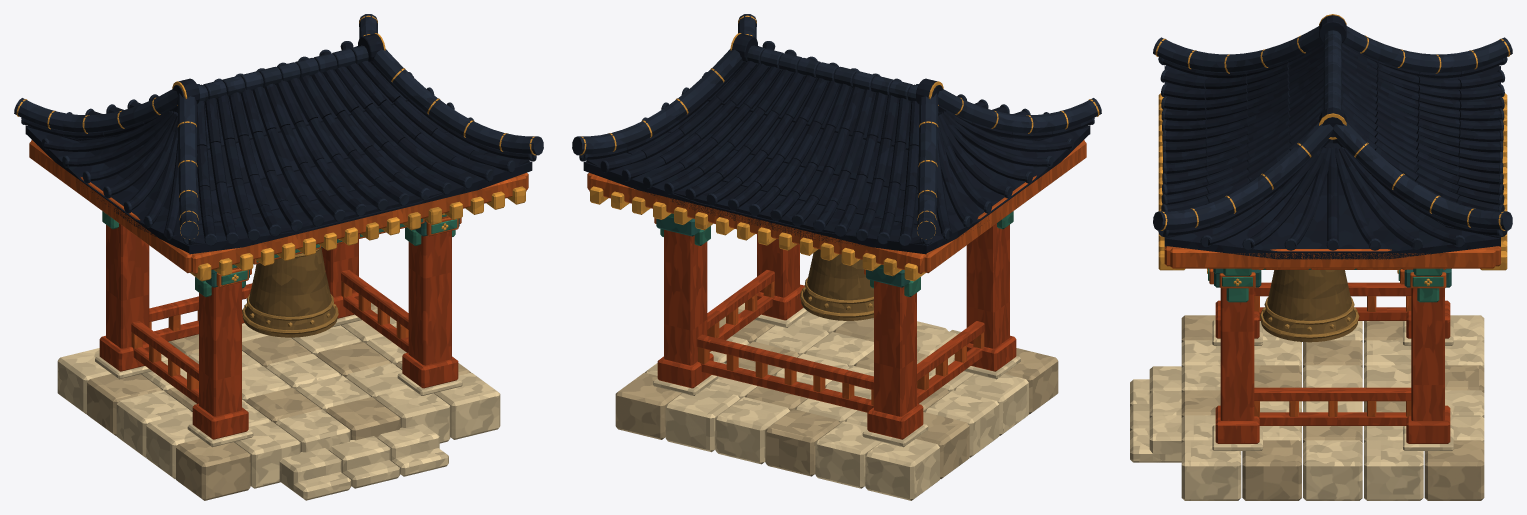
File: Test_Cheon_BellPavilion.fbx
The picture shows the model from 3 angles, left to right: view 1: azimuth 30°, elevation 25°; view 2: azimuth 150°, elevation 25°; view 3: azimuth 270°, elevation 25°; orthographic projection. The views are drawn at different scales.
Parts seen in each view (by area): view 1: Pavilion_Pillar_Post.002, Bell_Hollow_Body, Pavilion_Pillar_Post, Pavilion_Pillar_Post.001, PavilionRoof_HipSide_-1, PavilionRoof_EaveFascia, Pavilion_Stone_0_0, PavilionRoof_Front_HipRoll_1, PavilionRoof_Front_UnderRoof, PavilionRoof_Back_HipRoll_-1, Pavilion_Stone_5_0, PavilionRoof_SideFascia (+41 smaller); view 2: Pavilion_Pillar_Post.001, Pavilion_Pillar_Post.003, Pavilion_Pillar_Post, PavilionRoof_HipSide_-1, PavilionRoof_Back_UnderRoof, PavilionRoof_EaveFascia.001, Pavilion_Stone_0_4, PavilionRoof_Back_HipRoll_1, Bell_Hollow_Body, Pavilion_Stone_2_4, Pavilion_Stone_3_4, Pavilion_Stone_4_4 (+37 smaller); view 3: PavilionRoof_HipSide_1, PavilionRoof_SideFascia.001, Bell_Hollow_Body, Pavilion_Pillar_Post.002, Pavilion_Pillar_Post.003, PavilionRoof_Front_HipRoll_1, PavilionRoof_Back_HipRoll_1, Pavilion_Stone_5_2, Pavilion_Stone_5_1, Pavilion_Stone_5_3, Pavilion_Stone_5_0, Pavilion_Stone_5_4 (+73 smaller).
Boxes of the visible parts, x1,y1,x2,y2 form: Pavilion_Pillar_Post.002: (408,231,451,365); Bell_Hollow_Body: (243,248,337,337); Pavilion_Pillar_Post: (199,282,241,416); Pavilion_Pillar_Post.001: (106,223,149,348); PavilionRoof_HipSide_-1: (25,126,189,252); PavilionRoof_EaveFascia: (191,174,526,273); Pavilion_Stone_0_0: (176,439,250,500); PavilionRoof_Front_HipRoll_1: (366,49,543,155); PavilionRoof_Front_UnderRoof: (189,132,532,254); PavilionRoof_Back_HipRoll_-1: (14,89,177,133); Pavilion_Stone_5_0: (434,372,500,439); PavilionRoof_SideFascia: (29,140,192,273); Pavilion_Pillar_Post.001: (874,281,916,416); Pavilion_Pillar_Post.003: (664,229,707,365); Pavilion_Pillar_Post: (966,223,1009,348); PavilionRoof_HipSide_-1: (926,126,1090,252); PavilionRoof_Back_UnderRoof: (583,132,926,254); PavilionRoof_EaveFascia.001: (589,174,924,273); Pavilion_Stone_0_4: (865,439,939,500); PavilionRoof_Back_HipRoll_1: (572,49,749,155); Bell_Hollow_Body: (801,249,873,320); Pavilion_Stone_2_4: (765,409,840,476); Pavilion_Stone_3_4: (715,397,790,464); Pavilion_Stone_4_4: (665,387,740,452); PavilionRoof_HipSide_1: (1164,143,1500,259); PavilionRoof_SideFascia.001: (1170,247,1495,268); Bell_Hollow_Body: (1261,270,1357,342); Pavilion_Pillar_Post.002: (1220,288,1254,420); Pavilion_Pillar_Post.003: (1411,288,1444,420); PavilionRoof_Front_HipRoll_1: (1153,122,1332,230); PavilionRoof_Back_HipRoll_1: (1333,122,1512,230); Pavilion_Stone_5_2: (1303,440,1362,500); Pavilion_Stone_5_1: (1242,440,1301,500); Pavilion_Stone_5_3: (1364,440,1423,500); Pavilion_Stone_5_0: (1181,440,1241,500); Pavilion_Stone_5_4: (1424,440,1484,500).
Bounding box in the file's own units: 4.61 × 4.29 × 4.1.
Materials: 13 (12 with a texture image).
